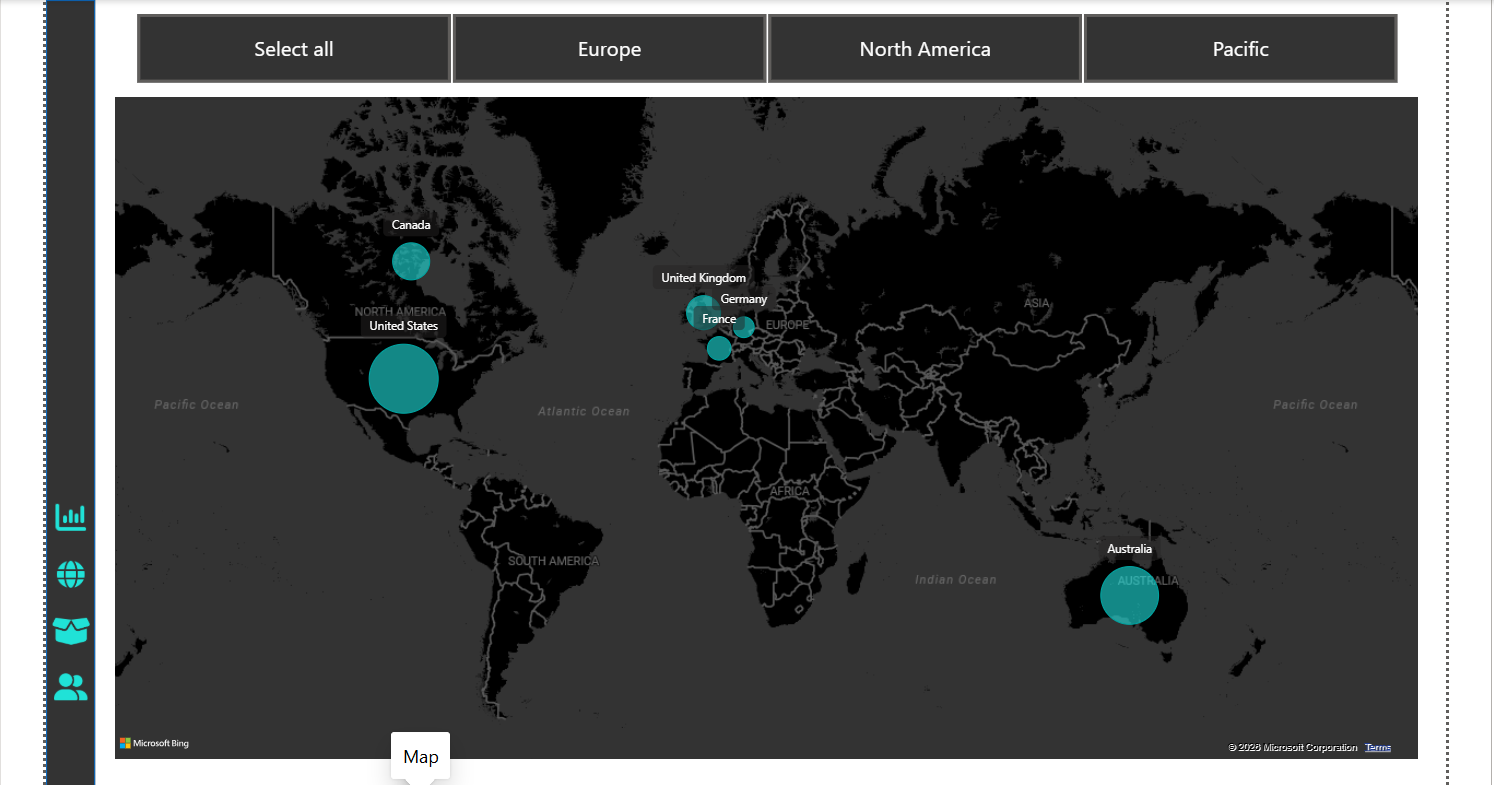

What the dashboard file says about the page in this screenshot:
{"tool":"powerbi","page":{"name":"Map","canvas":[1280,720],"ordinal":1},"visuals":[{"type":"shape","title":"Left Navigation Pane","box":[0,0,45,720],"z":0},{"type":"map","fields":{"Category":["Territory Lookup.Country"],"Size":["Measure Table.Total Orders"]},"box":[57.6,83.7,1202.7,615.8],"z":1000},{"type":"slicer","fields":{"Values":["Territory Lookup.Continent"]},"box":[57.5,6.1,1202.8,77.2],"z":2000},{"type":"image","box":[0,455.4,45.4,34.8],"z":3000},{"type":"image","box":[0,507.4,45.4,34.8],"z":4000},{"type":"image","box":[0,559.3,45.4,34.8],"z":5000},{"type":"image","box":[0,611.3,45.4,34.8],"z":6000}]}

Visuals, with their boxes in screenshot pixels (x1, y1, x2, y2):
"Left Navigation Pane" shape: (43,4,91,779)
map - Territory Lookup.Country x Measure Table.Total Orders: (105,94,1399,757)
slicer - Territory Lookup.Continent: (105,10,1399,94)
image: (43,494,92,532)
image: (43,550,92,588)
image: (43,606,92,643)
image: (43,662,92,699)
